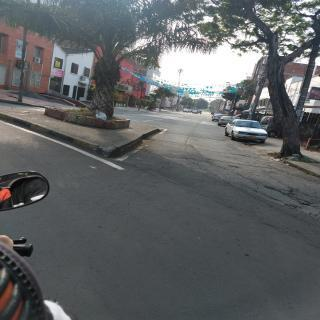Garbage: (94, 109, 113, 123)
